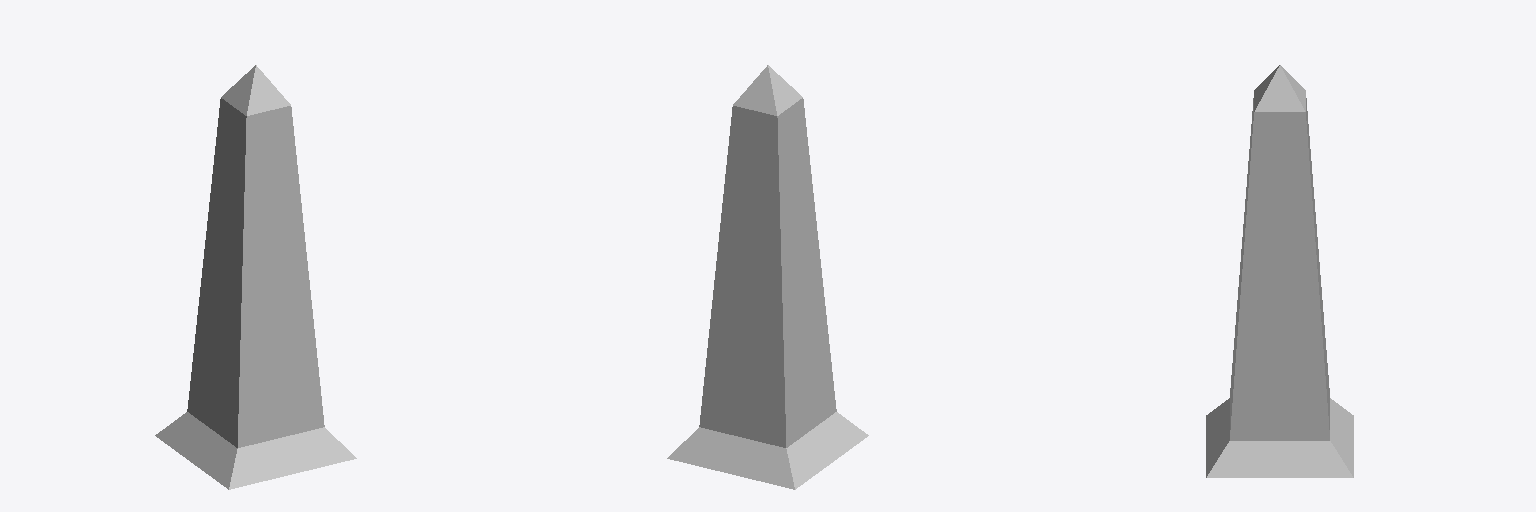
File: obelisk_obj_mdl.obj
The picture shows the model from 3 angles: view 1: azimuth 30°, elevation 25°; view 2: azimuth 150°, elevation 25°; view 3: azimuth 270°, elevation 25°; orthographic projection.
Visible parts, largest first — view 1: Pyramid001; view 2: Pyramid001; view 3: Pyramid001.
Boxes of the visible parts, box(x1,y1,x2,y2) form: Pyramid001: box(155, 65, 356, 489); Pyramid001: box(667, 65, 868, 489); Pyramid001: box(1206, 65, 1353, 477).
Size of the model in its own units: 12.68 by 36.1 by 12.68.